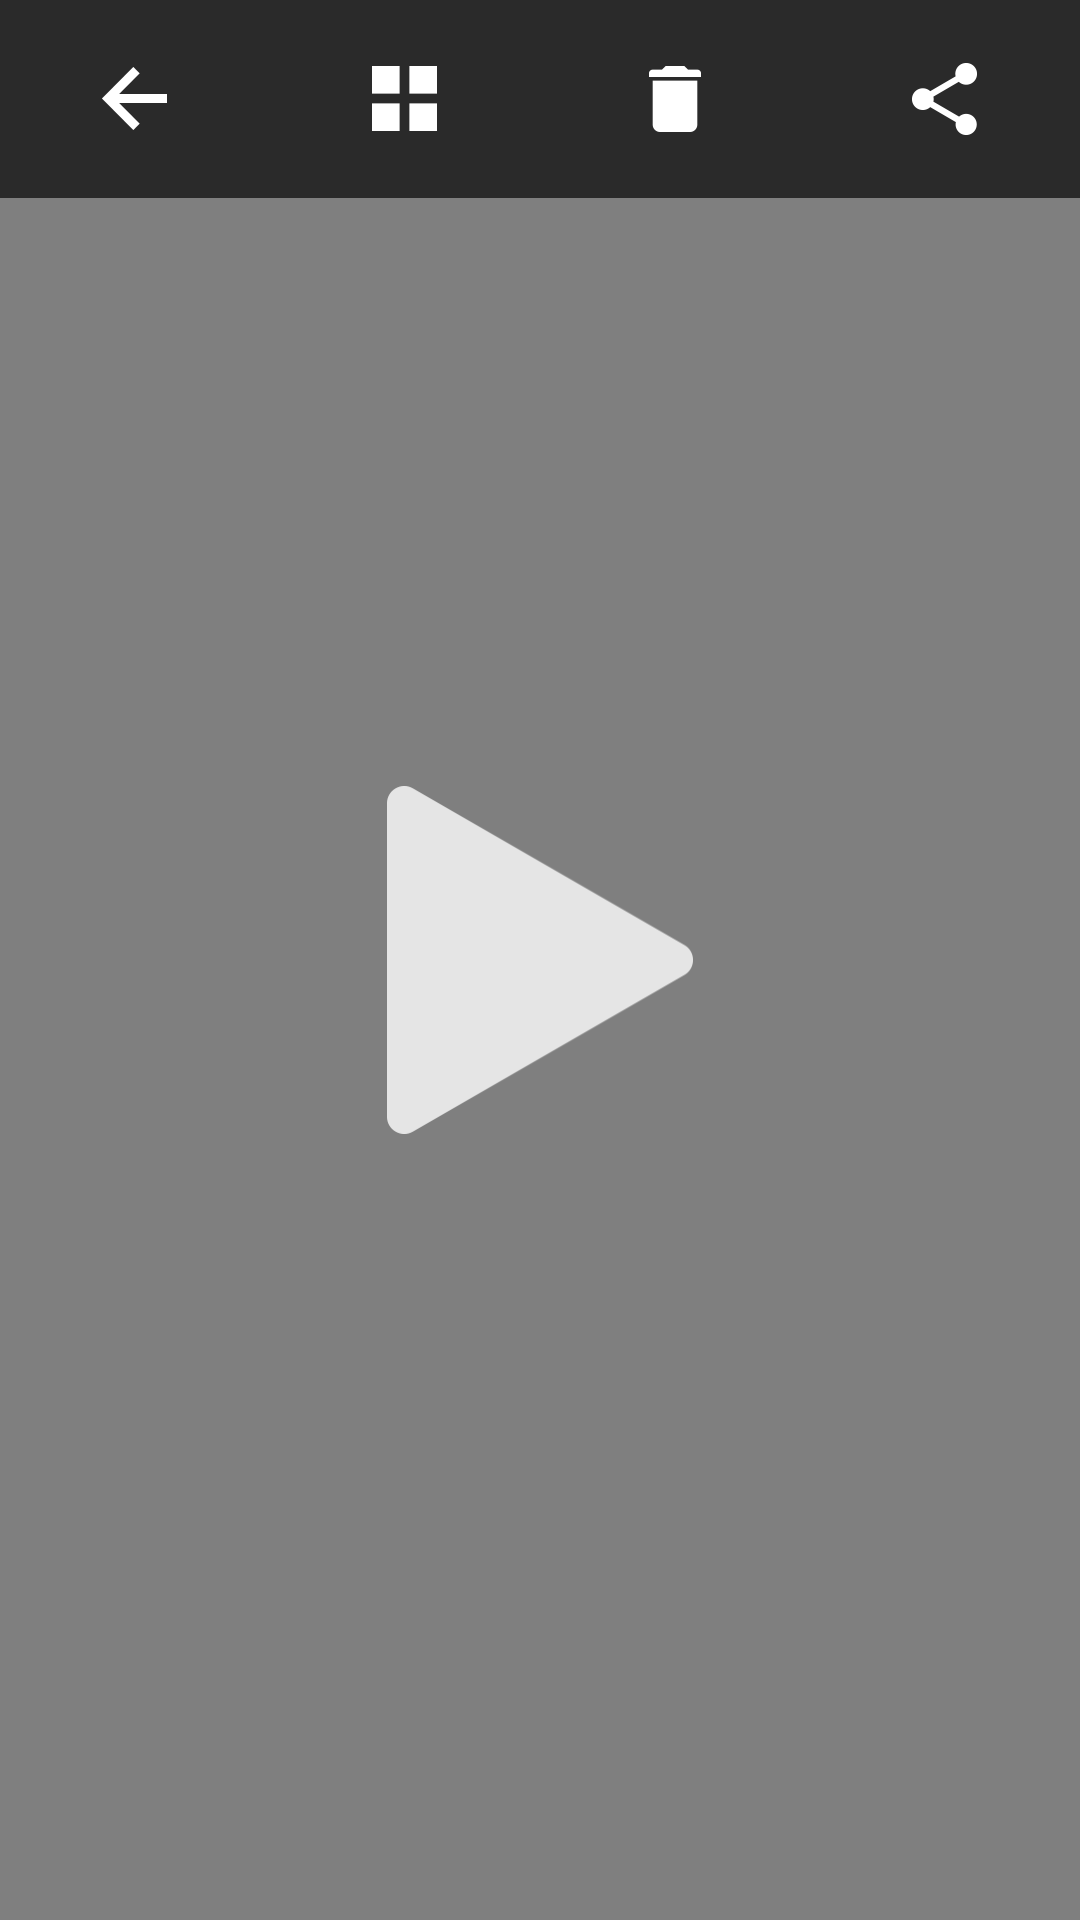

Locate icon controls on the screen. Image size 1080w x 1920h, boxes as (x1, y1, x2, y2).
Back To Recording: (102, 67, 167, 130)
Back To The Grid: (372, 66, 437, 131)
Delete Video: (649, 66, 701, 132)
Play Video: (387, 786, 693, 1134)
Share Video: (912, 63, 977, 135)
